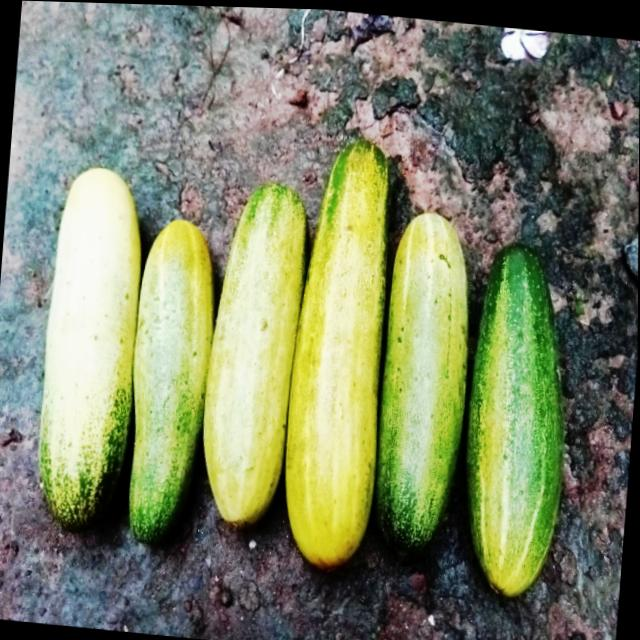Fresh-Cucumber: (275, 127, 401, 576), (453, 229, 583, 604), (26, 157, 150, 532), (192, 172, 314, 534), (367, 198, 483, 555), (117, 207, 220, 547)
